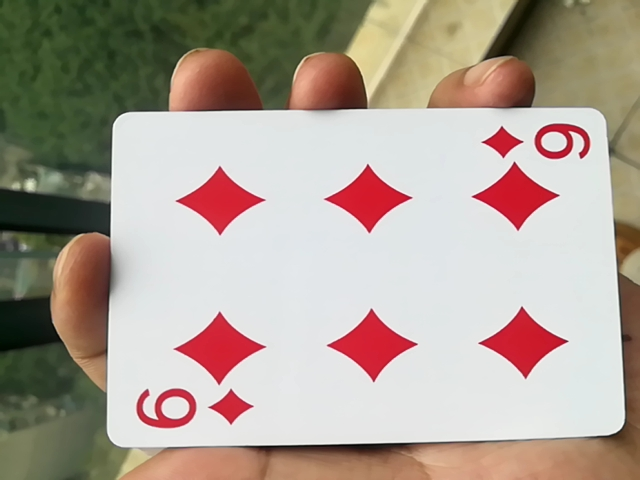fk 6: (85, 116, 620, 464)
